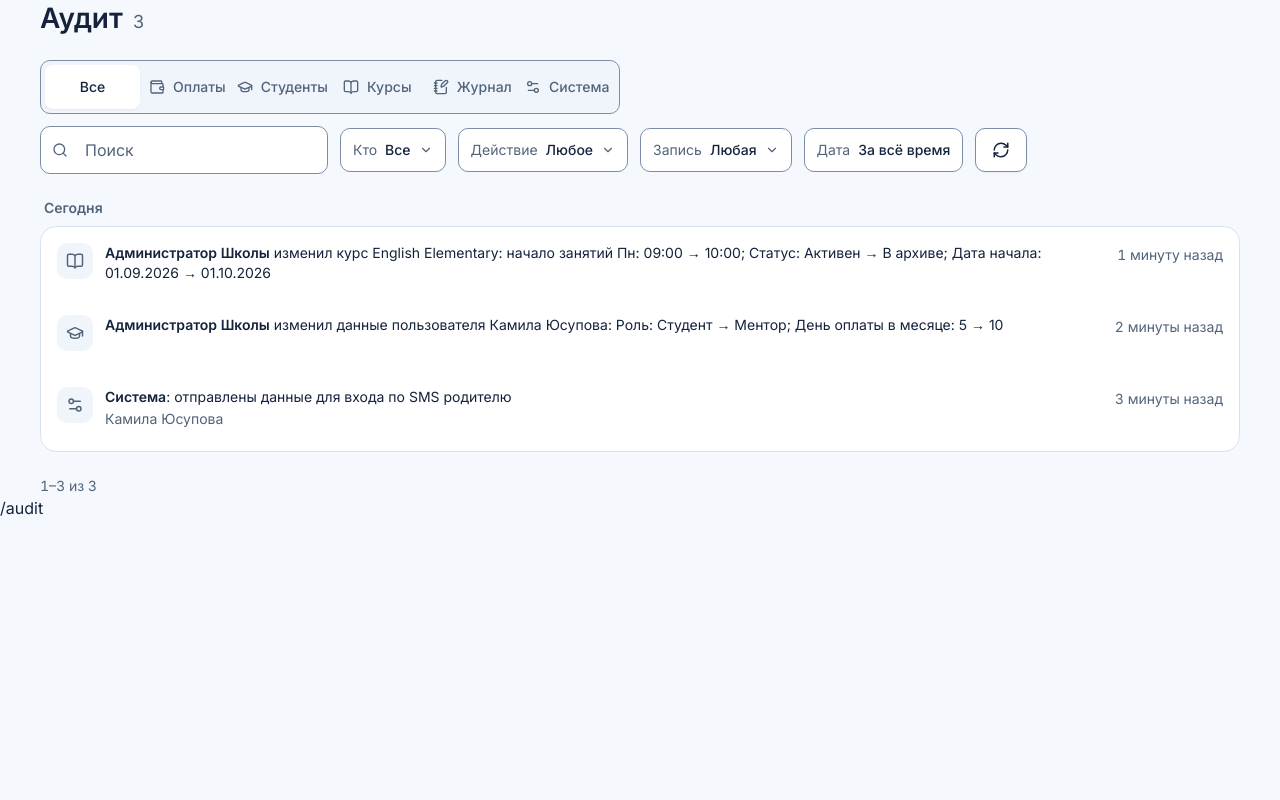
Scenario: Audit inspector labels › shows translated field and value labels and no raw keys
Click the button with aria-label "Открыть детали". click: click(75, 261)
box: [45,231,1235,303]
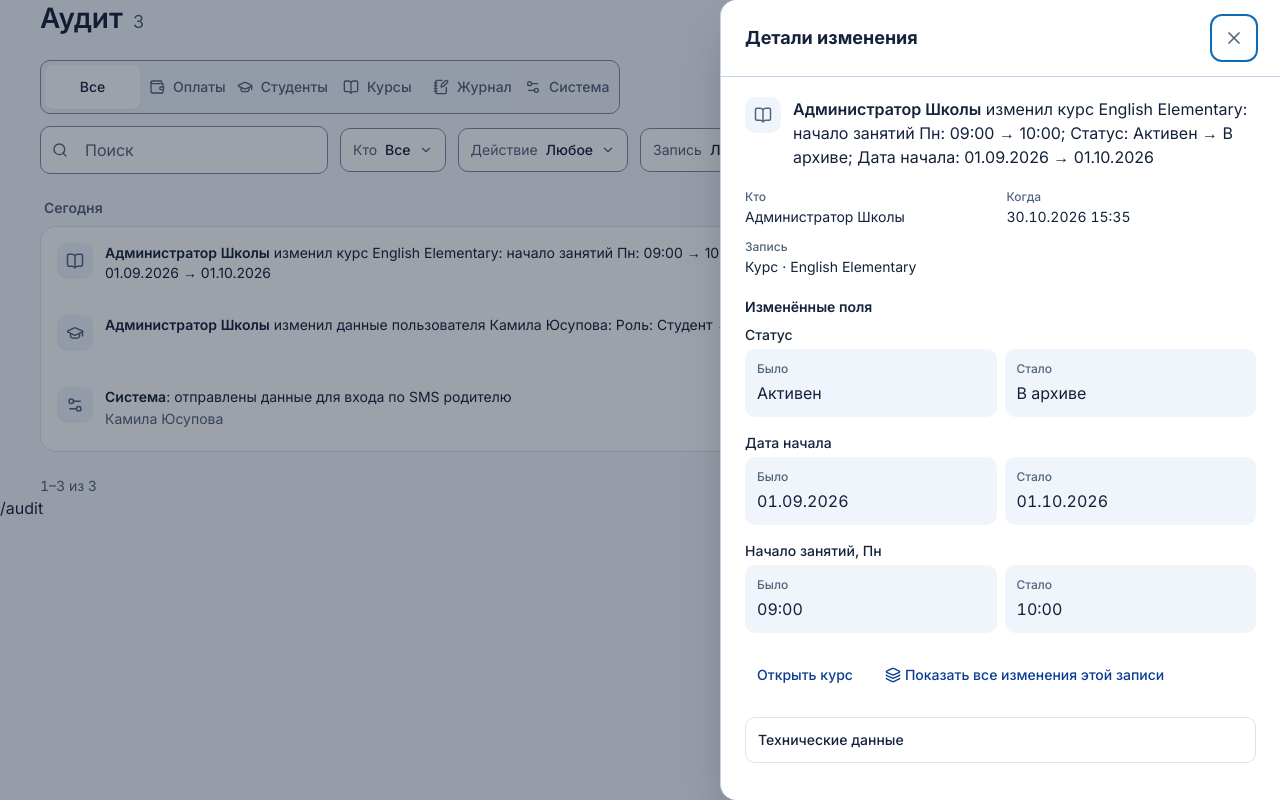
Check: the text "Статус" is shown, box [745,326,793,343]
Check: the text "Дата начала" is shown, box [745,434,832,451]
Check: the text "Начало занятий, Пн" is shown, box [745,542,882,559]
Press Escape
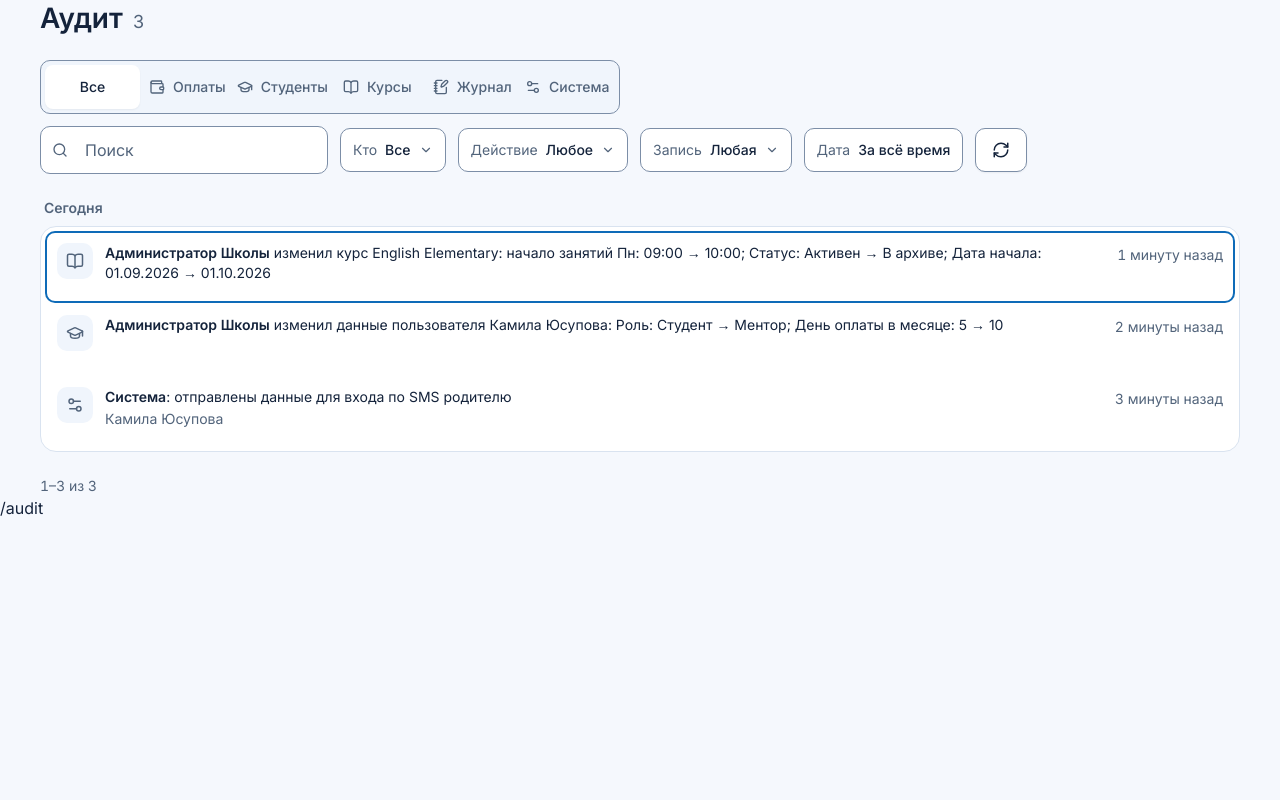
Check: the dialog is gone
Click the button with aria-label "Открыть детали". click: click(75, 333)
box: [45,303,1235,375]
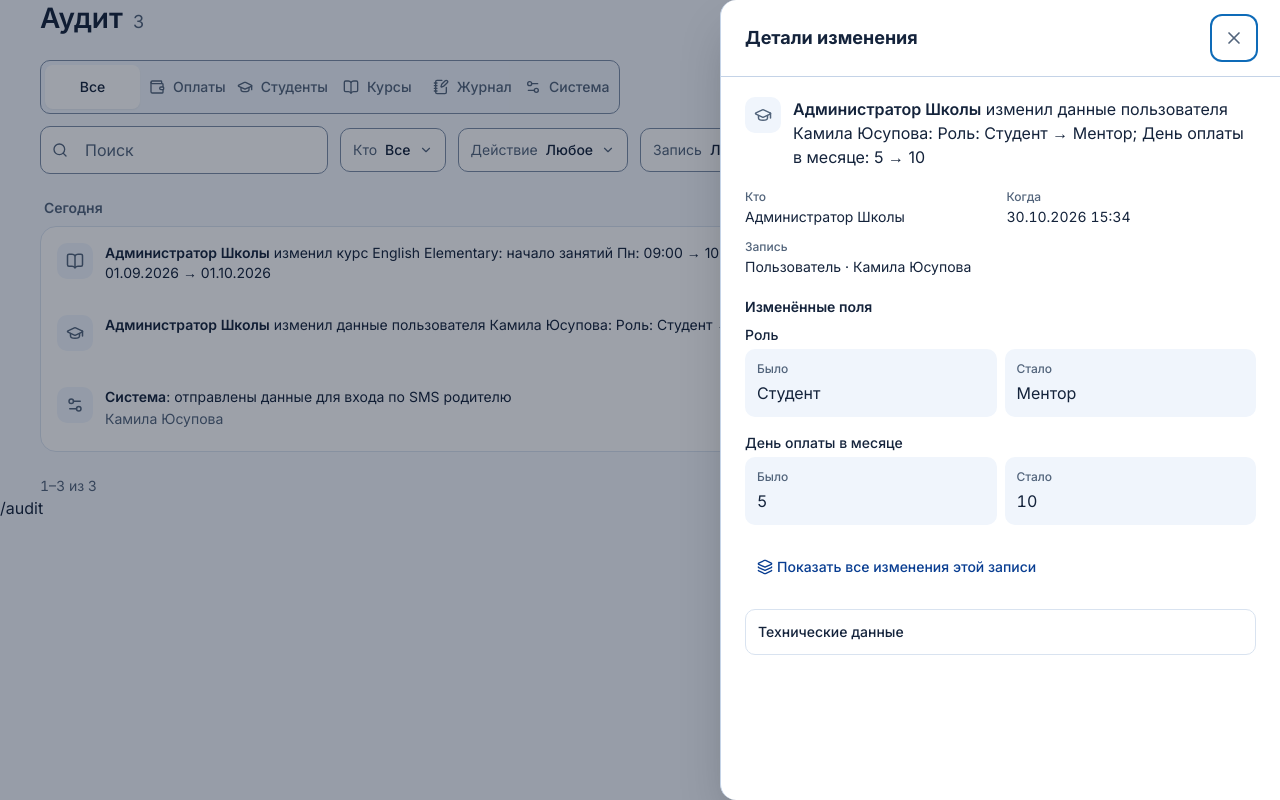
Check: the text "Роль" is shown, box [745,326,778,343]
Check: the text "Студент" is shown, box [757,383,820,403]
Check: the text "Ментор" is shown, box [1016,383,1076,403]
Press Escape
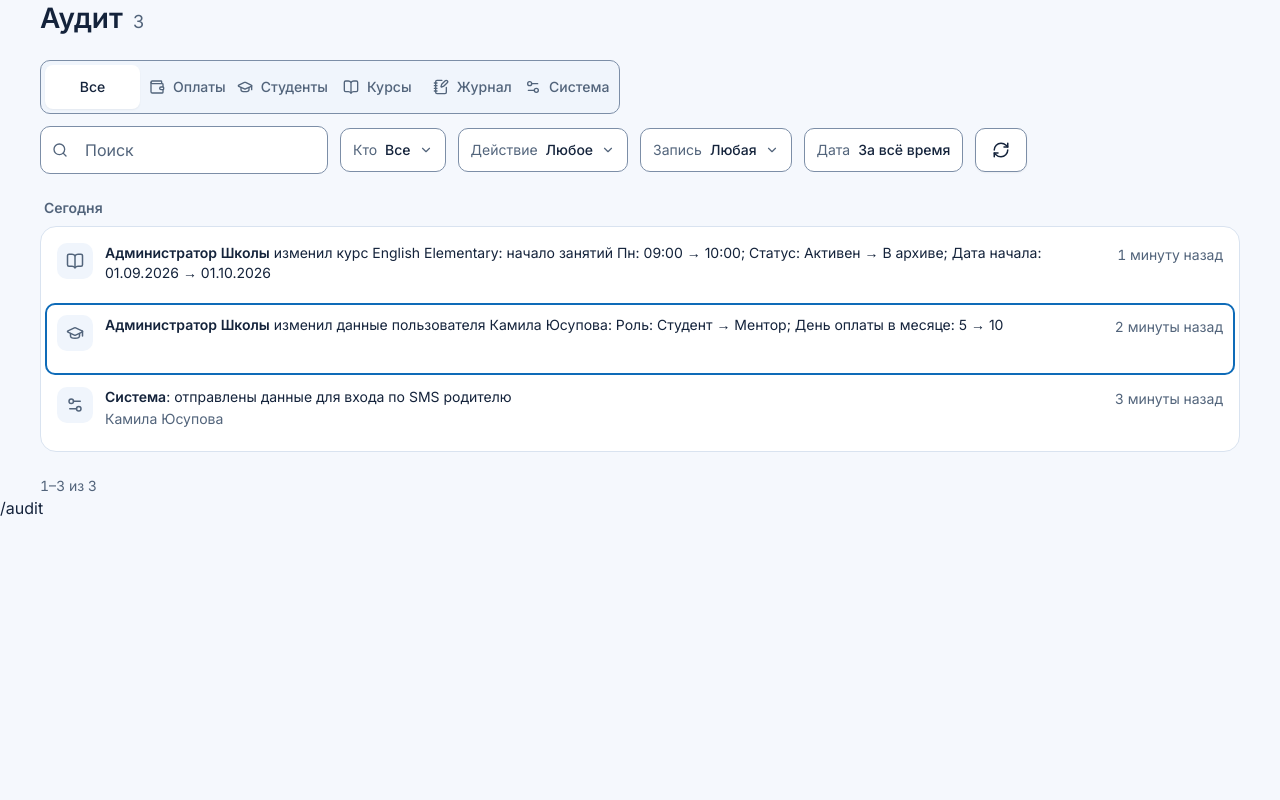
Check: the dialog is gone
Click the button with aria-label "Открыть детали". click: click(75, 405)
box: [45,375,1235,447]
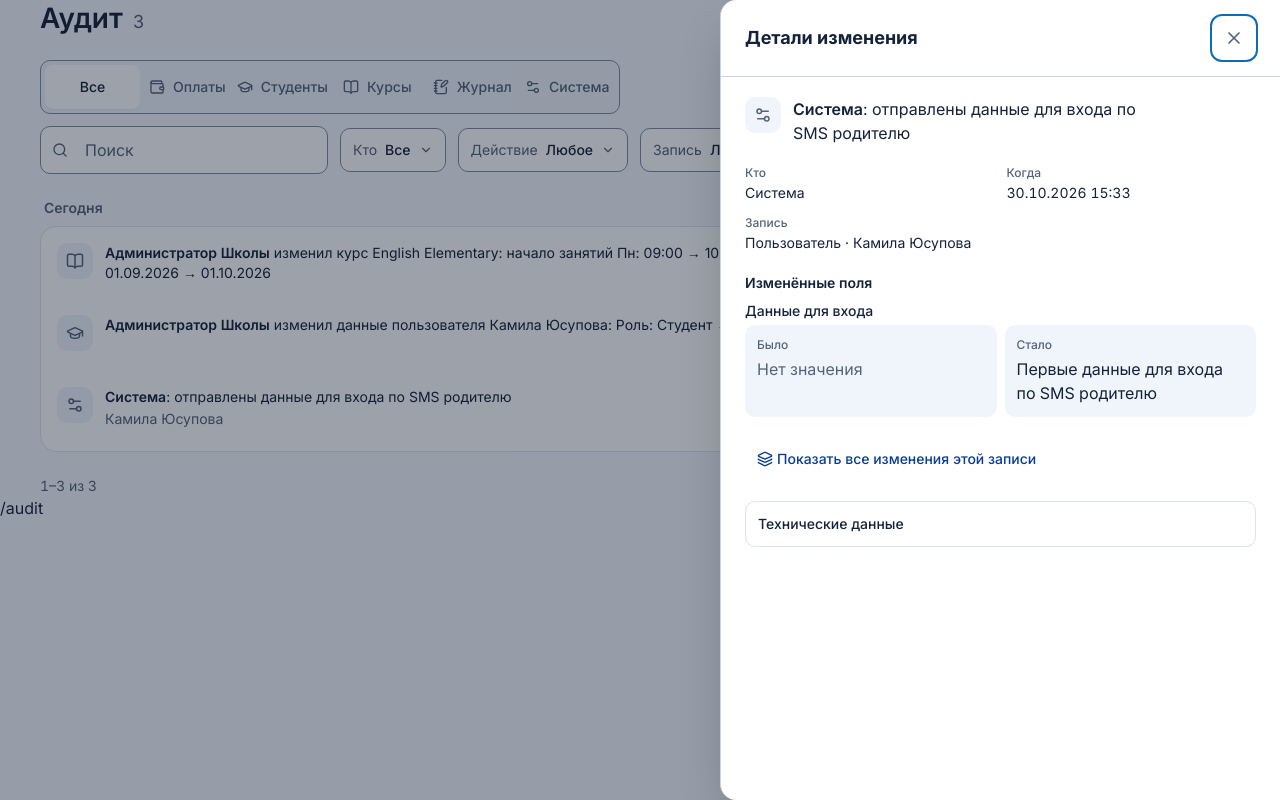
Check: the text "Данные для входа" is shown, box [745,302,873,319]
Check: the text "Первые данные для входа по SMS родителю" is shown, box [1016,357,1244,405]
Check: the 1st text "Система" is shown, box [793,99,863,119]
